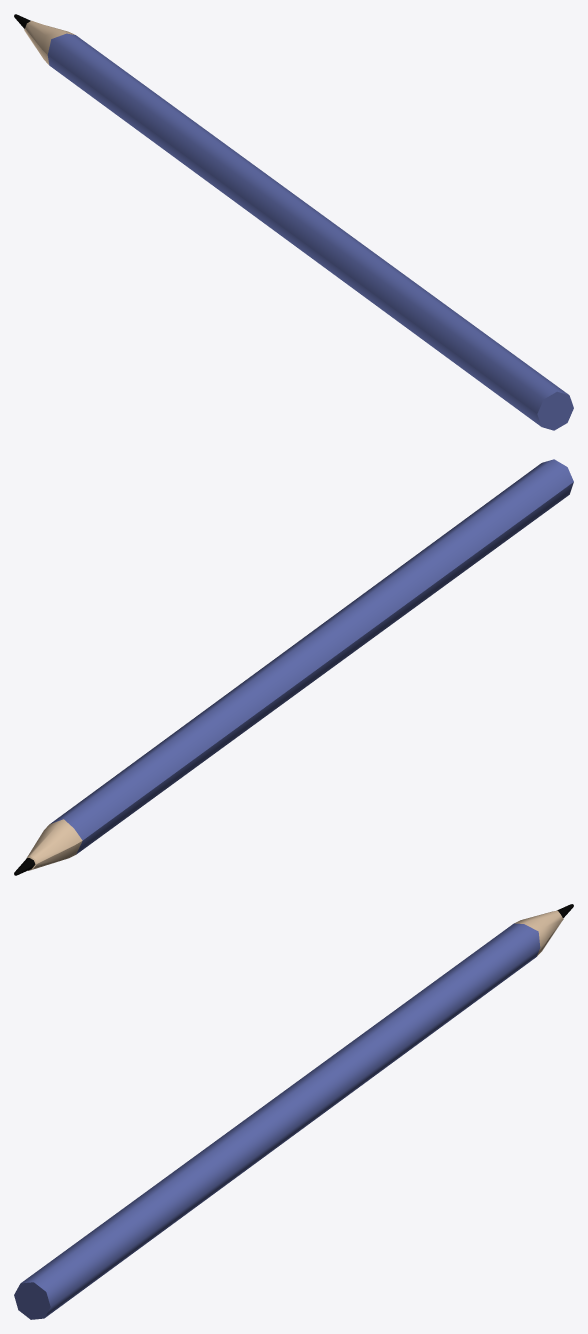
File: pencil_blue (1).fbx
3 views of the same model, one above another, from view 1: azimuth 30°, elevation 25°; view 2: azimuth 150°, elevation 25°; view 3: azimuth 330°, elevation 25° (orthographic).
Parts seen in each view (by area): view 1: pencil_blue; view 2: pencil_blue; view 3: pencil_blue.
Boxes of the visible parts, box(x1,y1,x2,y2) form: pencil_blue: box(14, 14, 573, 430); pencil_blue: box(14, 459, 573, 875); pencil_blue: box(14, 904, 573, 1319).
Bounding box in the file's own units: 65.37 × 65.37 × 1667.
